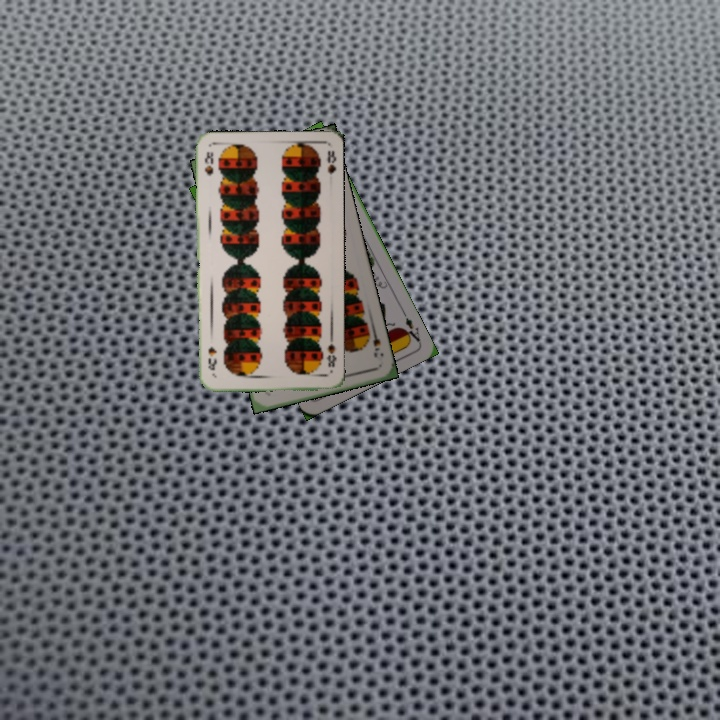EA: (398, 307, 423, 345)
S8: (322, 334, 339, 369), (201, 148, 216, 179)
S9: (363, 324, 383, 360)
